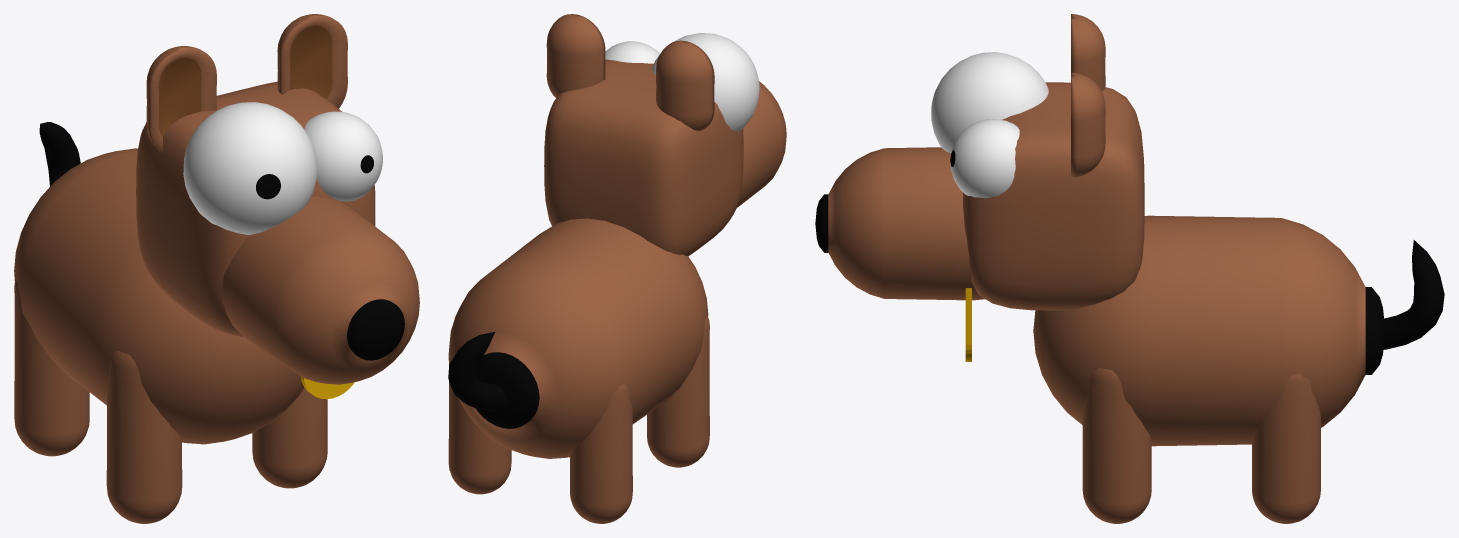
File: Bobby.fbx
3 renders of one model, left to right at view 1: azimuth 30°, elevation 25°; view 2: azimuth 150°, elevation 25°; view 3: azimuth 270°, elevation 25°, orthographic. The views are drawn at different scales.
Parts seen in each view (by area): view 1: Sphere.011, Sphere.008, Cap Referencia.020, Sphere.009, Sphere.015, Sphere.014, Sphere.012, Sphere.016, Sphere.010, Sphere.017, BézierCurve, Cylinder.004; view 2: Sphere.011, Cap Referencia.020, Sphere.014, Sphere.015, Sphere.017, Sphere.013, Sphere.016, Sphere.009, Sphere.008, BézierCurve, Sphere.010; view 3: Sphere.011, Cap Referencia.020, Sphere.008, Sphere.012, Sphere.013, Sphere.009, Sphere.010, BézierCurve, Sphere.016, Sphere.017.
Boxes of the visible parts, left/top/right/bottom form: Sphere.011: left=14, top=148, right=304, bottom=444; Sphere.008: left=221, top=196, right=419, bottom=384; Cap Referencia.020: left=136, top=81, right=375, bottom=337; Sphere.009: left=183, top=102, right=316, bottom=234; Sphere.015: left=106, top=351, right=182, bottom=523; Sphere.014: left=14, top=280, right=89, bottom=456; Sphere.012: left=252, top=388, right=327, bottom=488; Sphere.016: left=277, top=14, right=347, bottom=108; Sphere.010: left=304, top=111, right=382, bottom=201; Sphere.017: left=146, top=46, right=216, bottom=153; BézierCurve: left=39, top=122, right=80, bottom=186; Cylinder.004: left=300, top=376, right=354, bottom=399; Sphere.011: left=448, top=218, right=708, bottom=458; Cap Referencia.020: left=544, top=59, right=743, bottom=256; Sphere.014: left=570, top=384, right=632, bottom=523; Sphere.015: left=647, top=315, right=709, bottom=467; Sphere.017: left=656, top=40, right=714, bottom=130; Sphere.013: left=448, top=364, right=511, bottom=494; Sphere.016: left=546, top=14, right=605, bottom=97; Sphere.009: left=652, top=33, right=759, bottom=131; Sphere.008: left=737, top=81, right=786, bottom=207; BézierCurve: left=448, top=332, right=507, bottom=411; Sphere.010: left=605, top=41, right=659, bottom=63; Sphere.011: left=1033, top=215, right=1383, bottom=446; Cap Referencia.020: left=963, top=82, right=1144, bottom=310; Sphere.008: left=815, top=147, right=985, bottom=300; Sphere.012: left=1082, top=368, right=1151, bottom=523; Sphere.013: left=1252, top=374, right=1320, bottom=523; Sphere.009: left=931, top=52, right=1048, bottom=153; Sphere.010: left=950, top=119, right=1019, bottom=198; BézierCurve: left=1383, top=240, right=1444, bottom=349; Sphere.016: left=1071, top=72, right=1105, bottom=177; Sphere.017: left=1071, top=14, right=1105, bottom=90.
Bounding box in the file's own units: 1.5 × 3.19 × 4.09.
